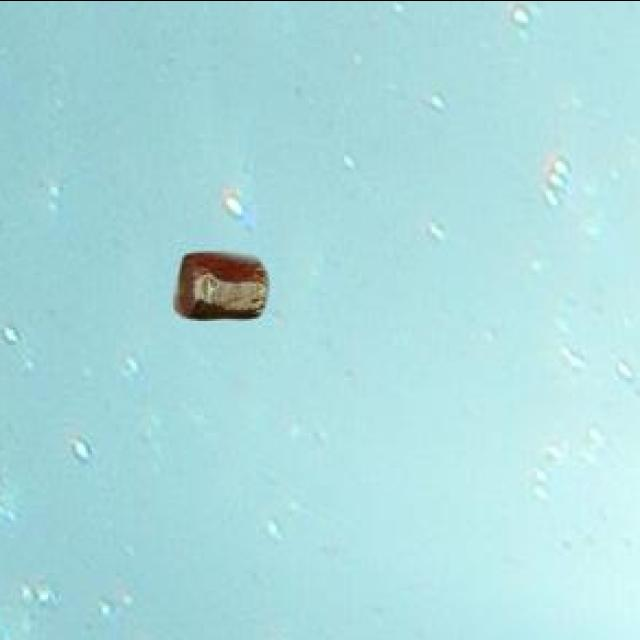logam: (179, 255, 271, 321)
